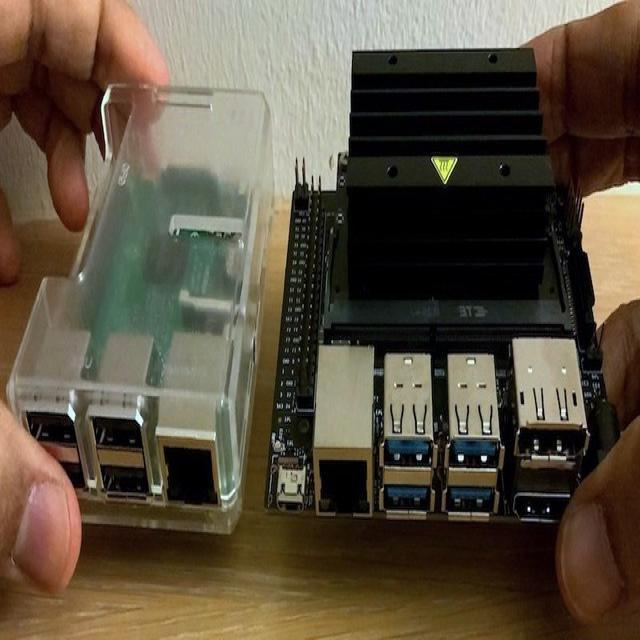Jetson Nano: (265, 48, 610, 523)
